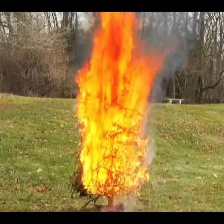fire: (72, 14, 160, 195)
